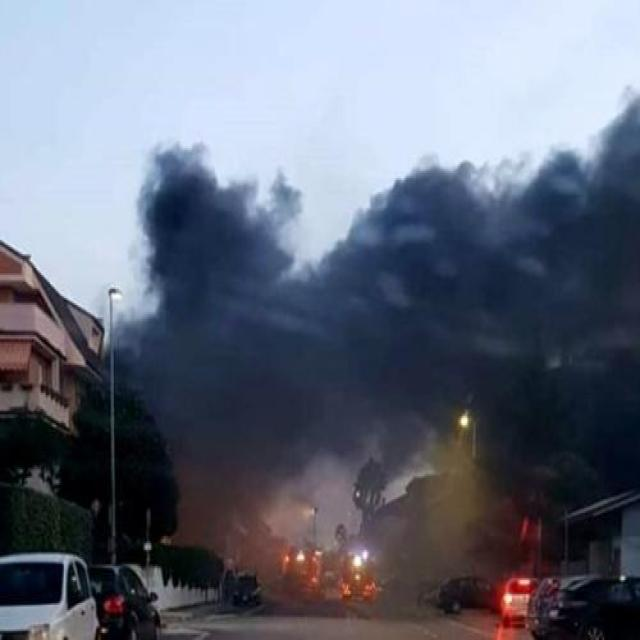other: (277, 528, 383, 604), (445, 403, 477, 436), (504, 576, 528, 620), (99, 277, 123, 309)
smoke: (129, 156, 636, 406)
